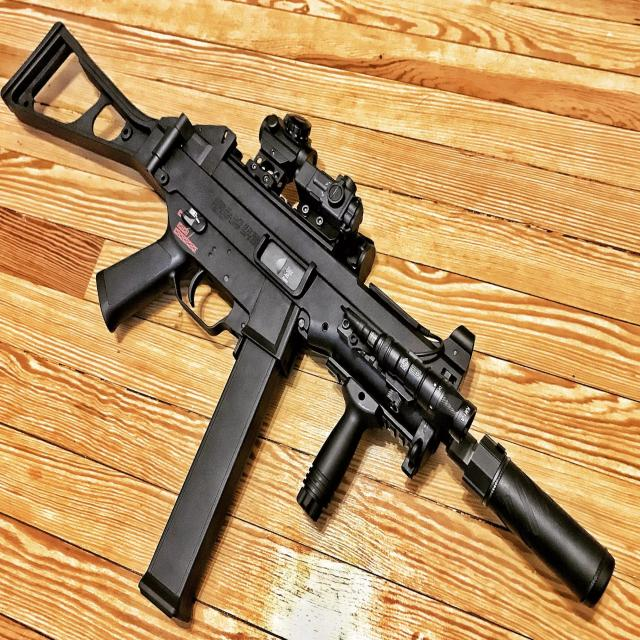Gun: (0, 11, 633, 625)
